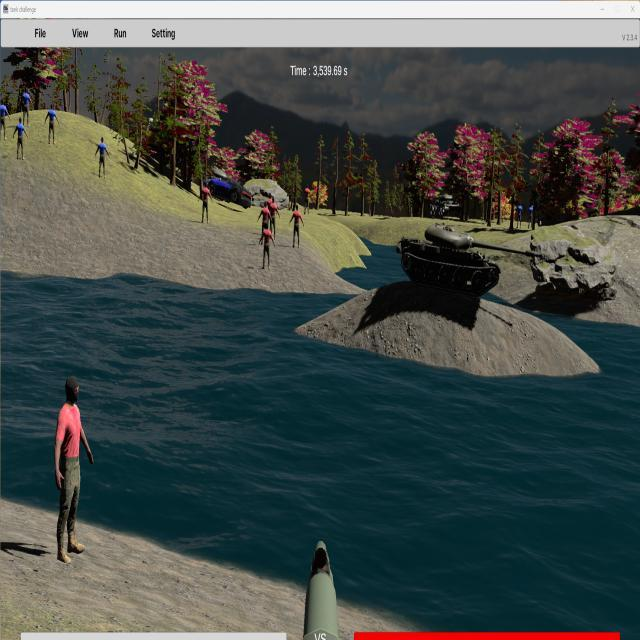Human: (55, 375, 94, 564), (259, 221, 275, 270), (289, 203, 304, 249), (199, 181, 213, 223), (0, 98, 10, 141)
Tank: (397, 223, 543, 297)
car: (202, 173, 252, 208)
